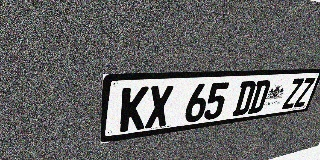5: (203, 82, 230, 120)
6: (184, 83, 211, 123)
D: (232, 81, 257, 116), (247, 80, 272, 114)
K: (119, 86, 149, 132)
X: (145, 85, 174, 129)
Z: (282, 78, 305, 109), (293, 78, 316, 108)
